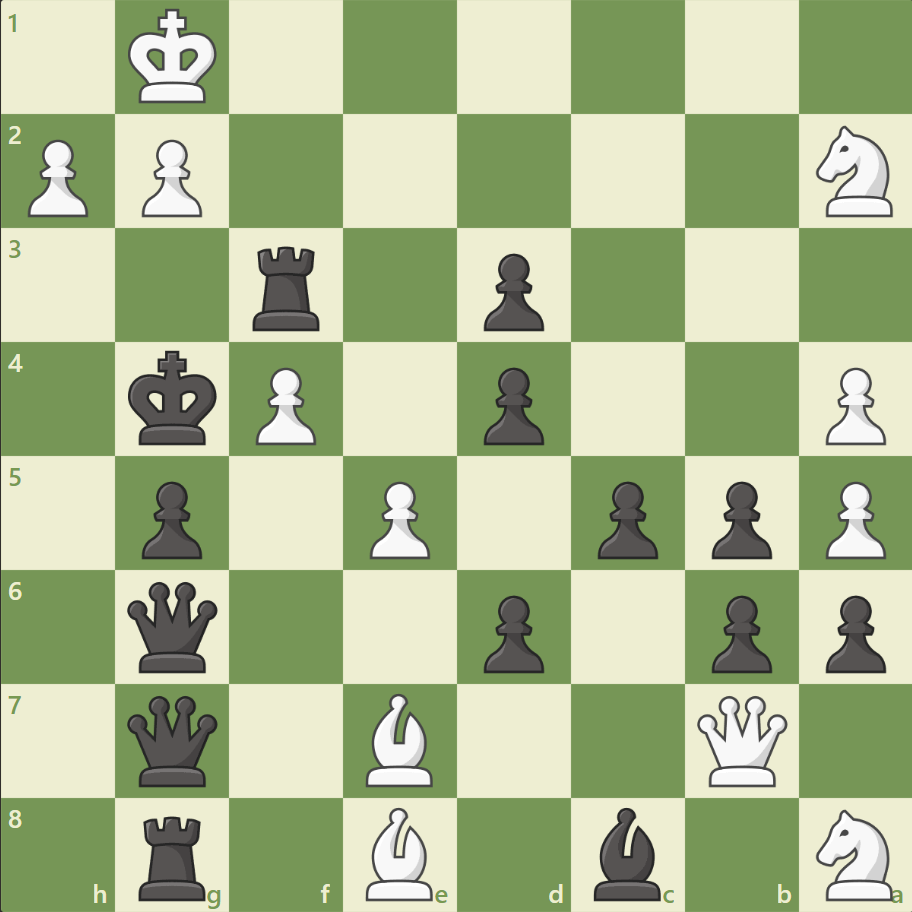B: (358, 801, 442, 904), (358, 687, 442, 790)
K: (124, 4, 224, 112)
N: (806, 802, 903, 904), (806, 121, 903, 223)
P: (247, 359, 322, 450), (133, 132, 208, 223), (20, 132, 95, 223), (815, 473, 889, 564), (361, 473, 435, 564), (815, 359, 889, 450)
Q: (691, 690, 790, 789)
b: (585, 801, 669, 904)
k: (124, 344, 224, 452)
p: (701, 586, 776, 677), (474, 586, 549, 677), (701, 473, 776, 564), (133, 473, 208, 564), (474, 359, 549, 450), (474, 246, 549, 337), (815, 586, 889, 677), (588, 473, 662, 564)
q: (124, 576, 223, 676), (124, 690, 223, 789)
r: (246, 239, 329, 336), (133, 806, 215, 904)
